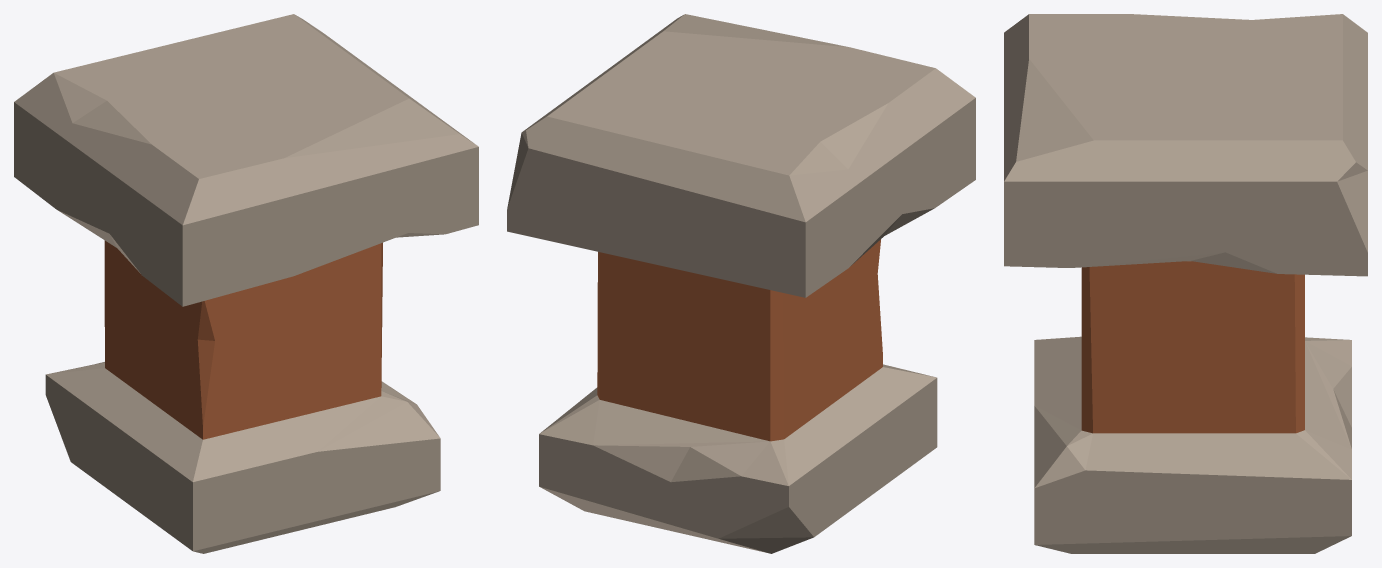
The model's file is SM_Bld_Temple_Balcony_Pillar_02.fbx.
3 views of the same model, side by side, from view 1: azimuth 30°, elevation 25°; view 2: azimuth 150°, elevation 25°; view 3: azimuth 270°, elevation 25° (orthographic). The views are drawn at different scales.
Parts seen in each view (by area): view 1: SM_Bld_Temple_Balcony_Pillar_02; view 2: SM_Bld_Temple_Balcony_Pillar_02; view 3: SM_Bld_Temple_Balcony_Pillar_02.
Part boxes in pixels (x1,y1,x2,y2): SM_Bld_Temple_Balcony_Pillar_02: [14, 14, 478, 553]; SM_Bld_Temple_Balcony_Pillar_02: [507, 14, 975, 553]; SM_Bld_Temple_Balcony_Pillar_02: [1004, 14, 1367, 553].
Bounding box in the file's own units: 106 × 135 × 104.
